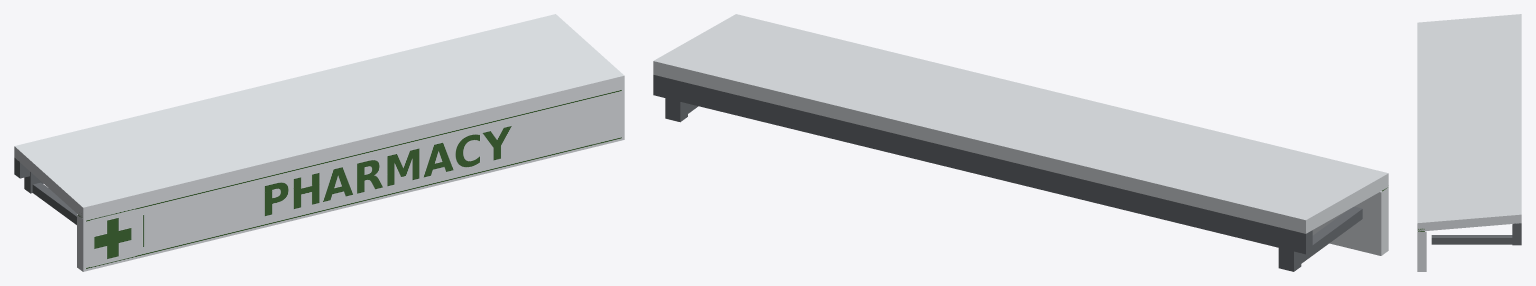
Rendered from building-business-pharmacy.glb.
3 renders of one model, left to right at view 1: azimuth 30°, elevation 25°; view 2: azimuth 150°, elevation 25°; view 3: azimuth 270°, elevation 25°, orthographic. The views are drawn at different scales.
Parts seen in each view (by area): view 1: business-pharmacy; view 2: business-pharmacy; view 3: business-pharmacy.
Boxes of the visible parts, x1,y1,x2,y2 form: business-pharmacy: (14, 14, 624, 271); business-pharmacy: (653, 14, 1388, 271); business-pharmacy: (1417, 14, 1521, 271).
Size of the model in its own units: 3 by 0.4 by 0.66.
4 materials, 1 textured.
